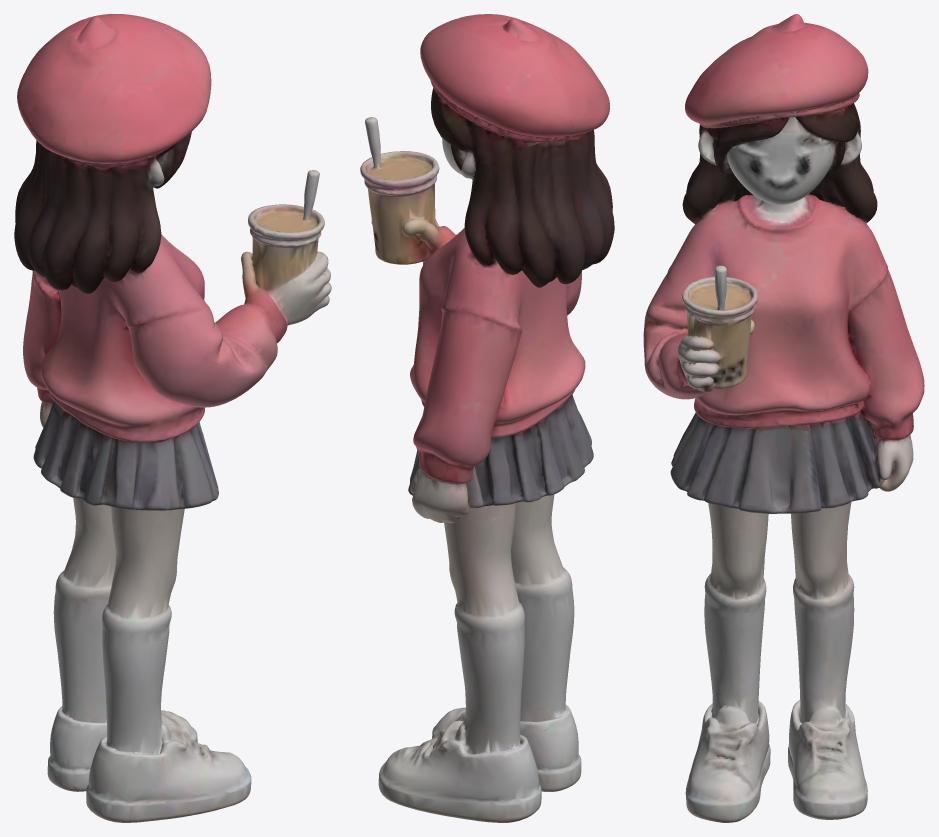
Rendered from audience-04.glb.
3 renders of one model, left to right at view 1: azimuth 30°, elevation 25°; view 2: azimuth 150°, elevation 25°; view 3: azimuth 270°, elevation 25°, orthographic. The views are drawn at different scales.
Visible parts, largest first — view 1: tripo_node_ccbc13b4-b82a-4c10-bb7c-64f60998acc2; view 2: tripo_node_ccbc13b4-b82a-4c10-bb7c-64f60998acc2; view 3: tripo_node_ccbc13b4-b82a-4c10-bb7c-64f60998acc2.
Boxes of the visible parts, x1,y1,x2,y2 form: tripo_node_ccbc13b4-b82a-4c10-bb7c-64f60998acc2: (14, 14, 331, 822); tripo_node_ccbc13b4-b82a-4c10-bb7c-64f60998acc2: (360, 14, 614, 822); tripo_node_ccbc13b4-b82a-4c10-bb7c-64f60998acc2: (643, 14, 924, 822).
Bounding box in the file's own units: 0.6019 × 1.7 × 0.5699.
Materials: 1 (1 with a texture image).
